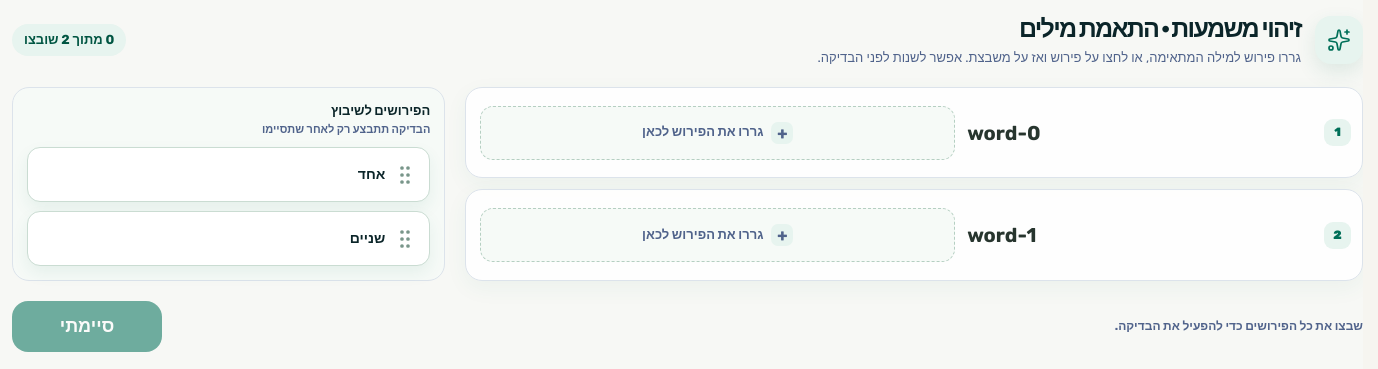
it: touch matching › preserves tap selection when replacing a filled slot on touch
Click the button with aria-label "גרירת הפירוש: אחד".
click(405, 175)  # box [27,147,430,202]
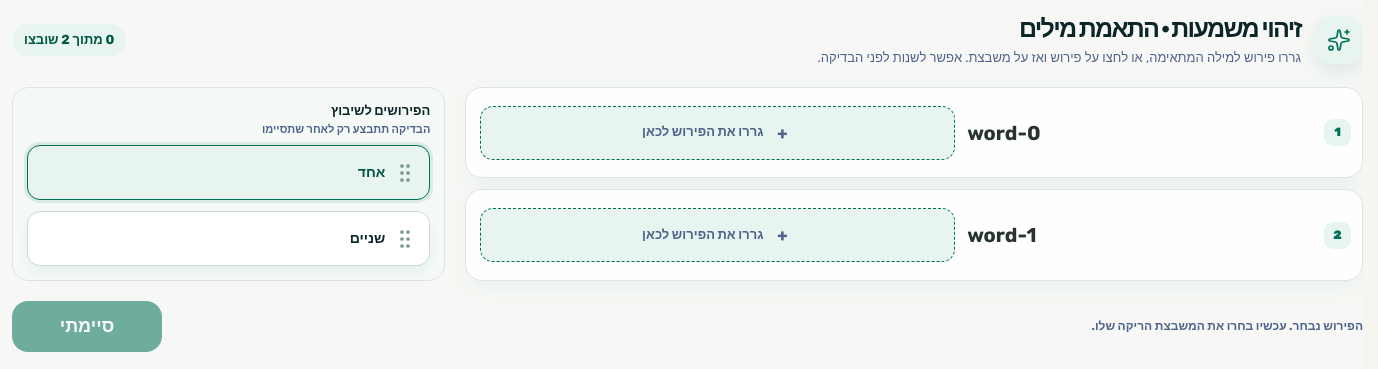
Click the button with class "drag-drop-slot" next to "word-0".
click(718, 133)  # box [480,106,955,160]
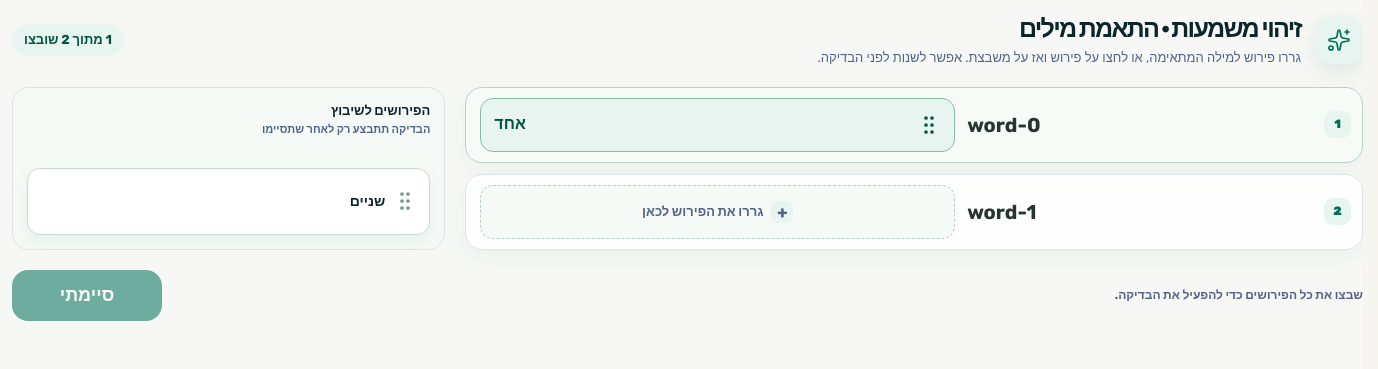
Click the button with aria-label "גרירת הפירוש: שניים".
click(368, 201)  # box [27,168,430,235]
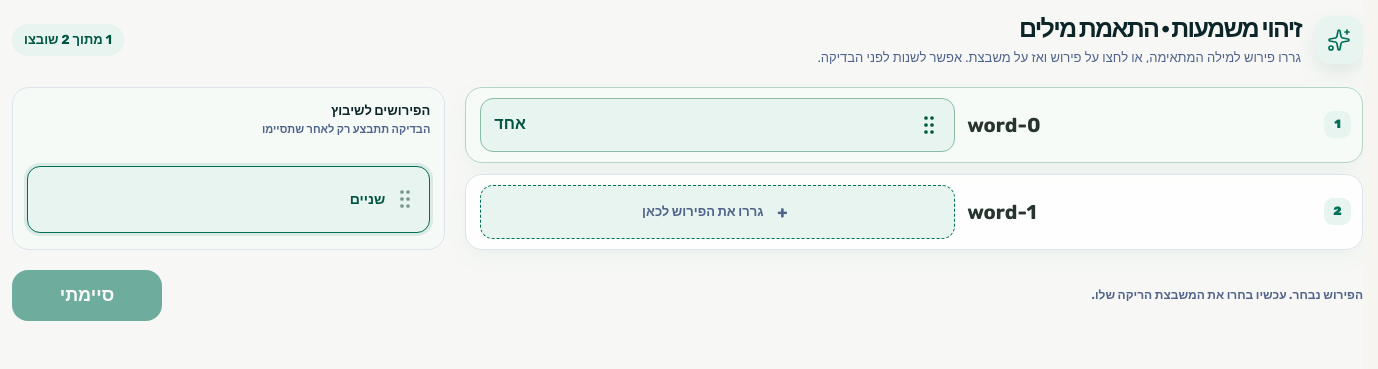
Click the button with class "drag-drop-slot" showing "אחד".
click(510, 124)  # box [480,98,955,152]
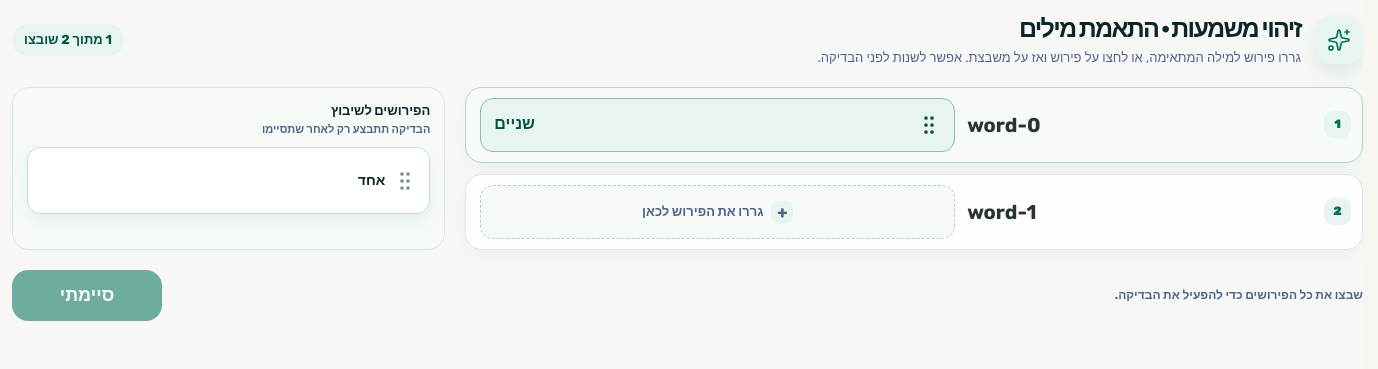
Expected: the button with class "drag-drop-slot" reads "שניים", [480,98,955,152]
